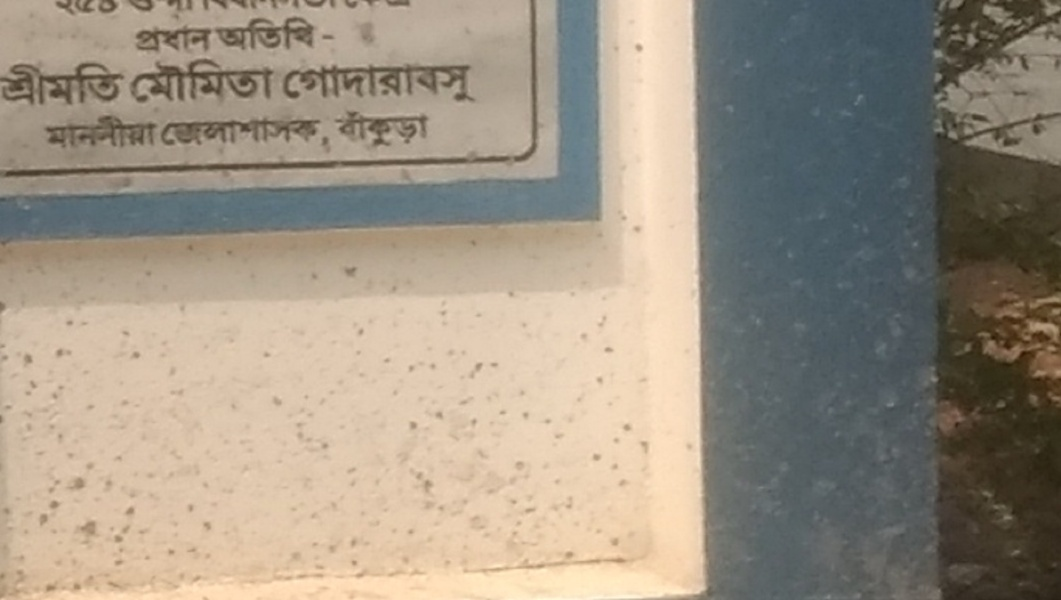text: (289, 59, 304, 113), (305, 59, 320, 113), (321, 59, 336, 113), (337, 59, 352, 113), (353, 59, 368, 113), (369, 59, 384, 113), (385, 59, 400, 113), (401, 59, 416, 113), (417, 59, 432, 113), (433, 59, 448, 113), (449, 59, 464, 113), (145, 56, 160, 109), (161, 56, 176, 109), (177, 56, 192, 109), (193, 56, 208, 109), (209, 56, 224, 109), (225, 56, 240, 109), (241, 56, 256, 109), (257, 56, 272, 109), (465, 59, 479, 113), (17, 61, 32, 110), (33, 61, 48, 110), (49, 61, 64, 110), (65, 61, 80, 110), (81, 61, 96, 110), (97, 61, 112, 110), (49, 111, 64, 155), (65, 111, 80, 155), (81, 111, 96, 155), (97, 111, 112, 155), (113, 111, 128, 155), (129, 111, 144, 155), (337, 107, 352, 151), (353, 107, 368, 151), (369, 107, 384, 151), (385, 107, 400, 151), (401, 107, 416, 151), (3, 61, 16, 110), (113, 61, 126, 110), (225, 8, 240, 50), (241, 8, 256, 50), (257, 8, 272, 50), (273, 8, 288, 50), (289, 8, 304, 50), (305, 8, 320, 50), (321, 8, 336, 50), (417, 107, 431, 151), (133, 56, 144, 109), (145, 111, 158, 155), (145, 22, 160, 57), (161, 22, 176, 57), (177, 22, 192, 57), (193, 22, 208, 57), (161, 117, 176, 151), (177, 117, 192, 151), (193, 117, 208, 151), (209, 117, 224, 151), (225, 117, 240, 151), (241, 117, 256, 151), (257, 117, 272, 151), (273, 117, 288, 151), (289, 117, 304, 151), (305, 117, 320, 151), (65, 1, 80, 33), (81, 1, 96, 33), (97, 1, 112, 33), (113, 1, 128, 33), (129, 1, 144, 33), (145, 1, 160, 33), (161, 1, 176, 33), (177, 1, 192, 33), (193, 1, 208, 33), (209, 1, 224, 33), (225, 1, 240, 33), (241, 1, 256, 33), (257, 1, 272, 33), (273, 1, 288, 33), (289, 1, 304, 33), (305, 1, 320, 33), (321, 1, 336, 33), (337, 1, 352, 33), (353, 1, 368, 33), (369, 1, 384, 33), (385, 1, 400, 33), (401, 1, 416, 33), (51, 1, 64, 33), (321, 117, 333, 151), (215, 8, 224, 50), (337, 8, 344, 50), (136, 22, 144, 57), (273, 56, 278, 109), (42, 111, 48, 155), (209, 22, 216, 57), (331, 107, 336, 151), (417, 1, 421, 33), (286, 59, 288, 113), (158, 117, 160, 151)
